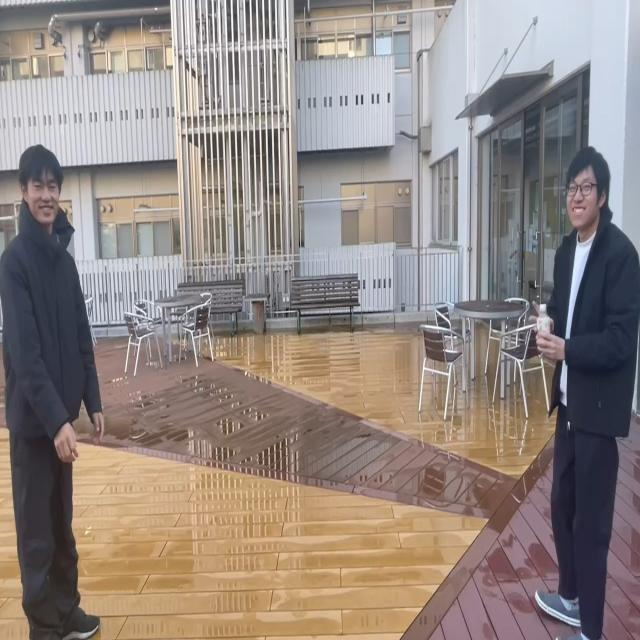bottle: (535, 298, 556, 360)
